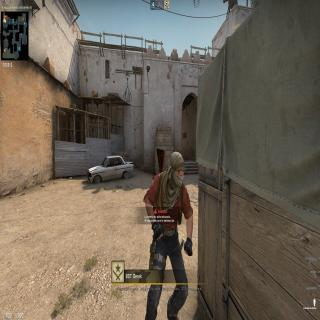T-Head: (167, 150, 186, 190)
